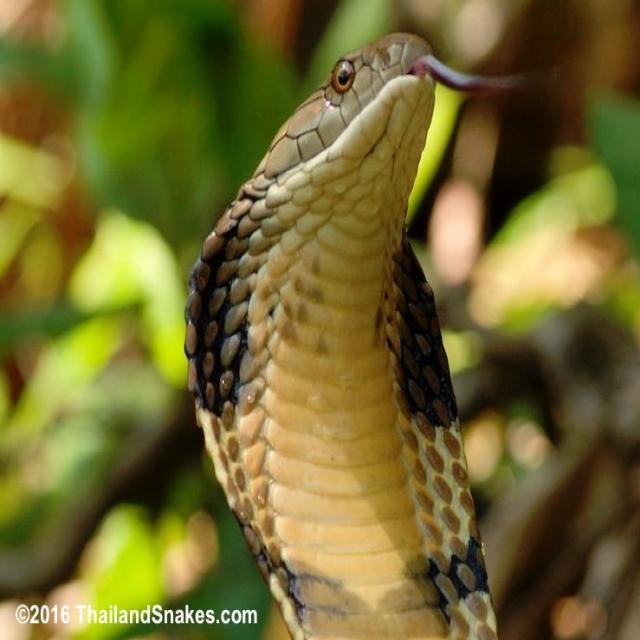Snake: (181, 22, 523, 640)
